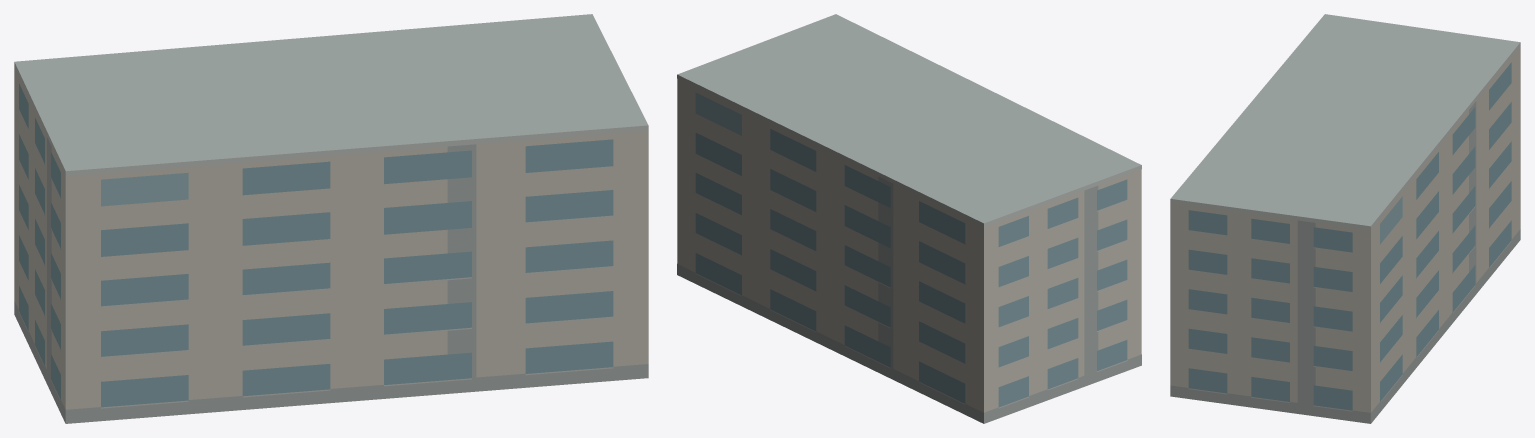
File: survey-upis-32995756.glb
3 views of the same model, side by side, from view 1: azimuth 30°, elevation 25°; view 2: azimuth 150°, elevation 25°; view 3: azimuth 270°, elevation 25° (orthographic). The views are drawn at different scales.
Visible parts, largest first — view 1: survey-upis-32995756.tmp; view 2: survey-upis-32995756.tmp; view 3: survey-upis-32995756.tmp.
Boxes of the visible parts, x1=… form: survey-upis-32995756.tmp: x1=14, y1=14, x2=648, y2=423; survey-upis-32995756.tmp: x1=677, y1=14, x2=1141, y2=423; survey-upis-32995756.tmp: x1=1170, y1=14, x2=1520, y2=423.
Size of the model in its own units: 26.5 by 11.5 by 18.48.
